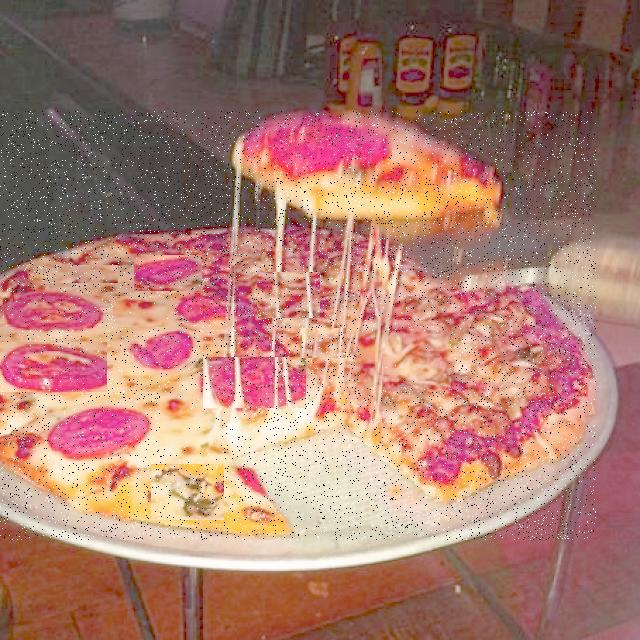Basil: (152, 464, 226, 520)
Cheese: (360, 332, 449, 387), (160, 389, 218, 450), (257, 272, 320, 318), (113, 298, 173, 327), (300, 328, 346, 358), (58, 265, 118, 283)
Pizza: (0, 112, 596, 540)
Tomato: (49, 403, 151, 467), (0, 342, 107, 392), (203, 357, 306, 408), (0, 292, 102, 330), (129, 333, 193, 375), (134, 255, 202, 291), (180, 295, 226, 322)
